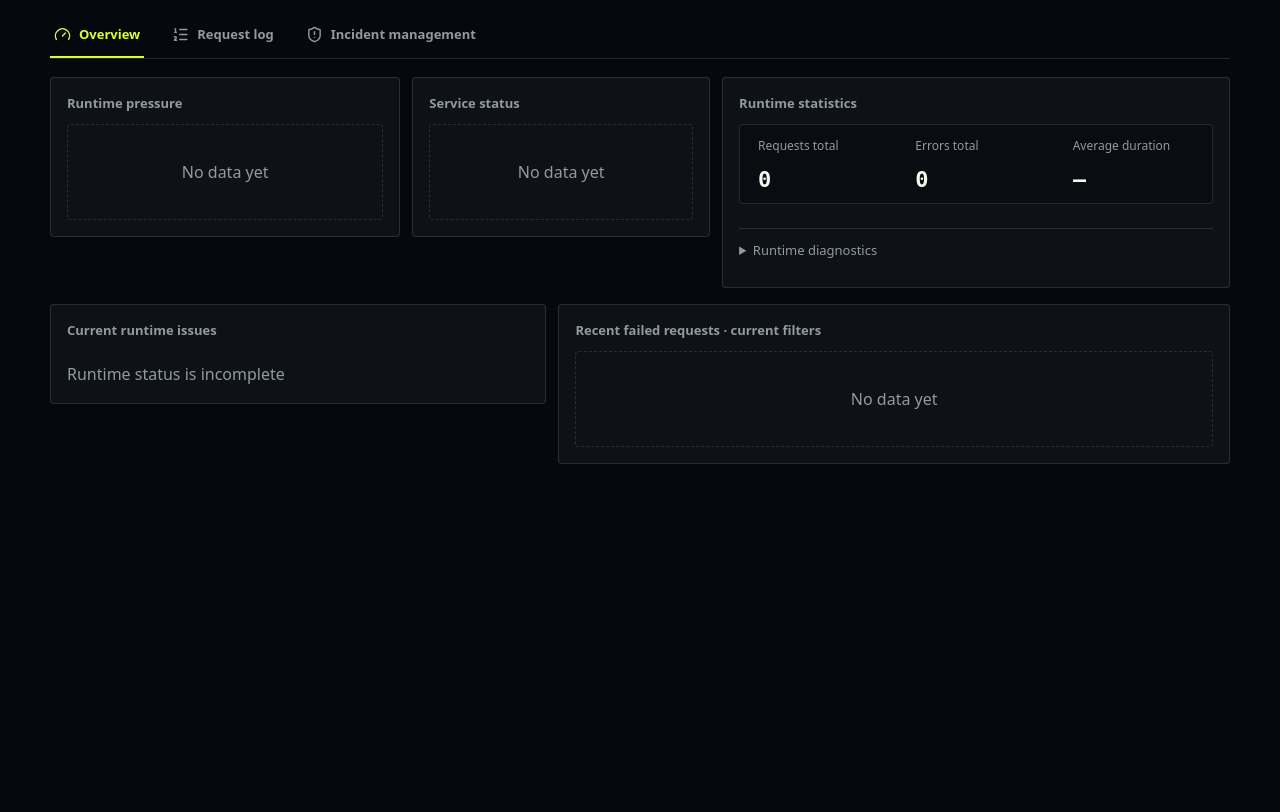
Scenario: operations workspace boundaries › removes manual refresh while preserving request mutation locks
Press the mouse on the tab "Request log" at (223, 35), box [168,12,278,58]
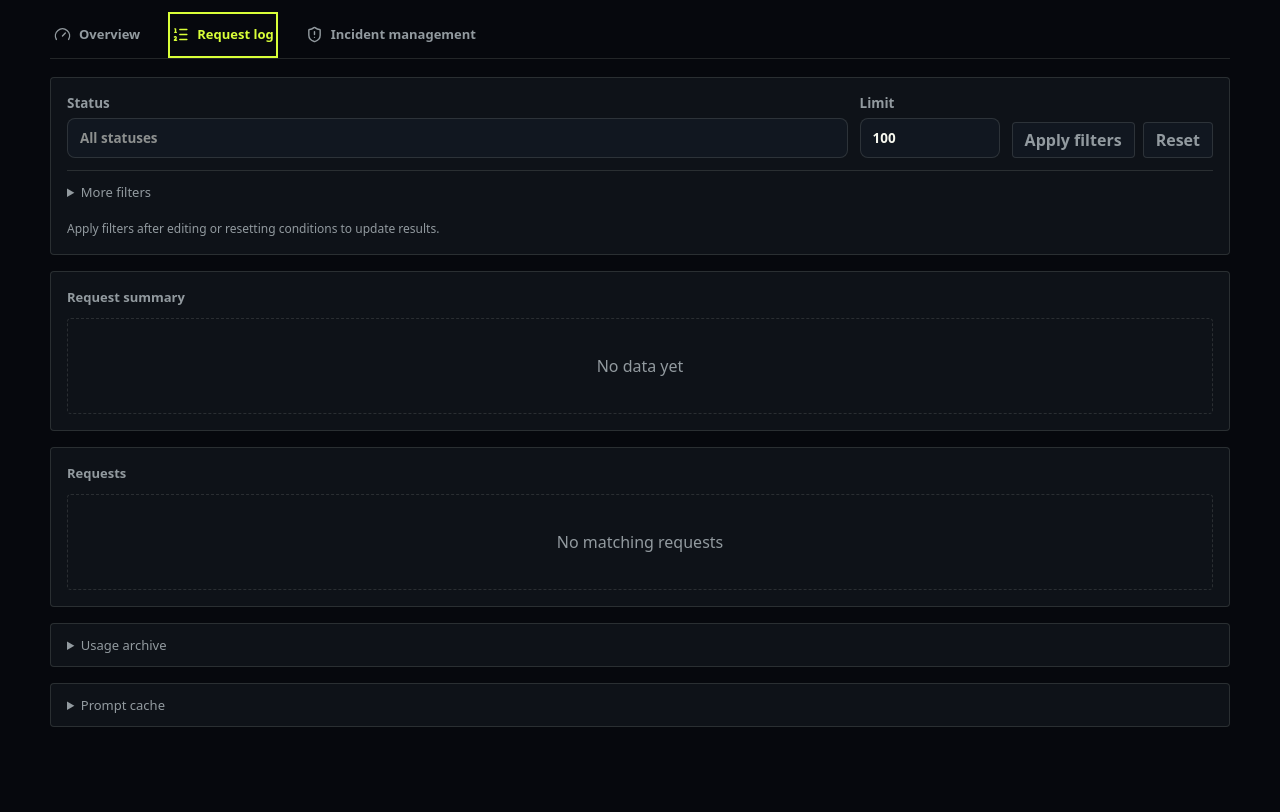
Now the button "Apply filters" is disabled, box [1012,122,1135,158]
Now the button "Reset" is disabled, box [1143,122,1213,158]
